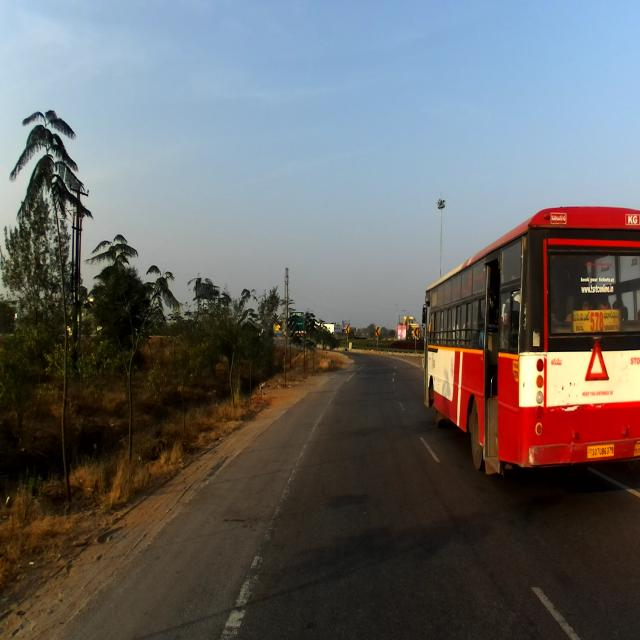bus ahead at: (425, 198, 640, 481)
